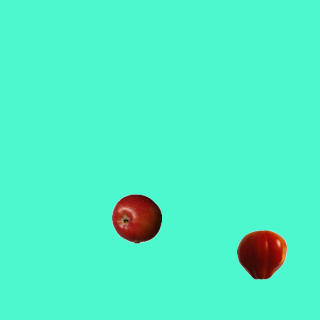Apple Braeburn: (111, 193, 161, 243)
Tomato 1: (236, 229, 286, 279)
